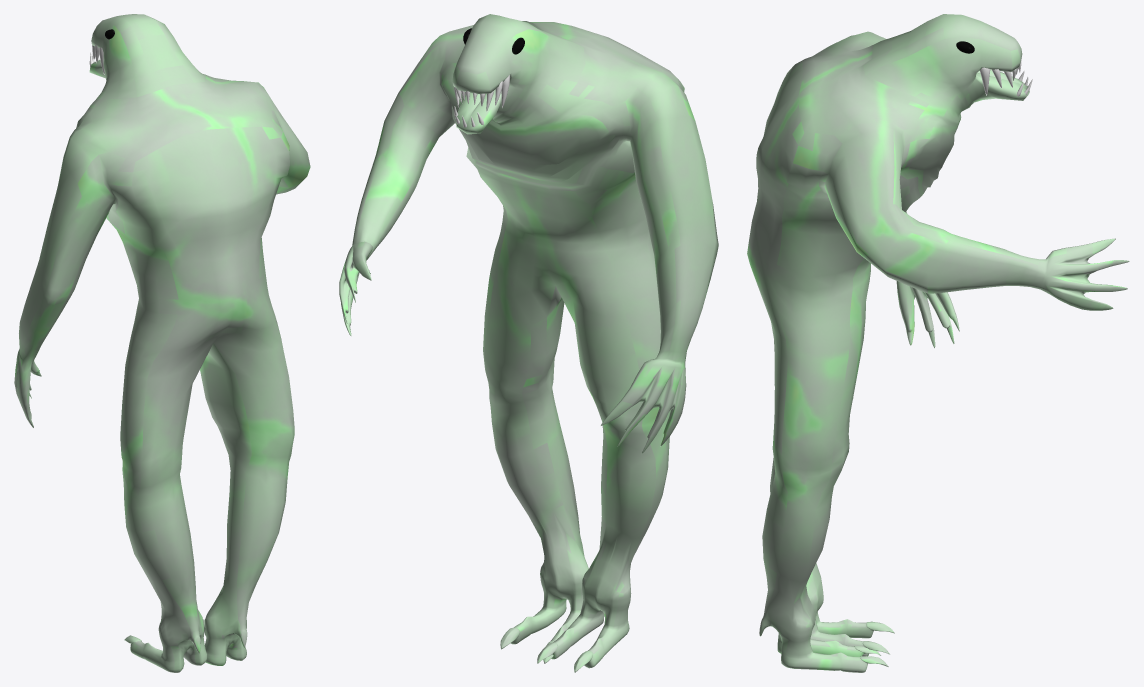
File: Berserkercorrer.0008.obj
3 renders of one model, left to right at view 1: azimuth 30°, elevation 25°; view 2: azimuth 150°, elevation 25°; view 3: azimuth 270°, elevation 25°, orthographic. The views are drawn at different scales.
Parts seen in each view (by area): view 1: polySurface27; view 2: polySurface27; view 3: polySurface27.
Part boxes in pixels (x1=…): polySurface27: x1=14, y1=14, x2=310, y2=672; polySurface27: x1=339, y1=14, x2=718, y2=672; polySurface27: x1=747, y1=14, x2=1129, y2=672.
Bounding box in the file's own units: 11.61 × 24.01 × 12.96.
1 material, 1 textured.
